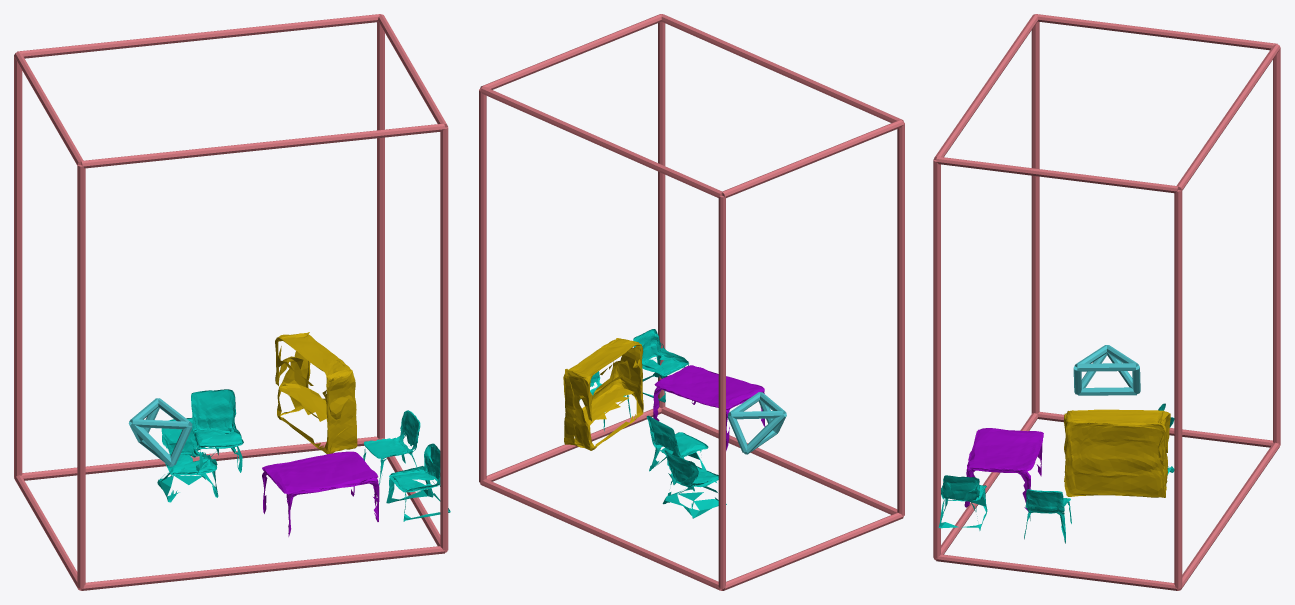
3 views of the same model, side by side, from view 1: azimuth 30°, elevation 25°; view 2: azimuth 150°, elevation 25°; view 3: azimuth 270°, elevation 25° (orthographic). The views are drawn at different scales.
Parts seen in each view (by area): view 1: world; view 2: world; view 3: world.
Part boxes in pixels (x1,y1,x2,y2): world: (14, 14, 450, 590); world: (479, 14, 904, 590); world: (933, 14, 1280, 590).
Bounding box in the file's own units: 5.27 × 5.66 × 4.41.
